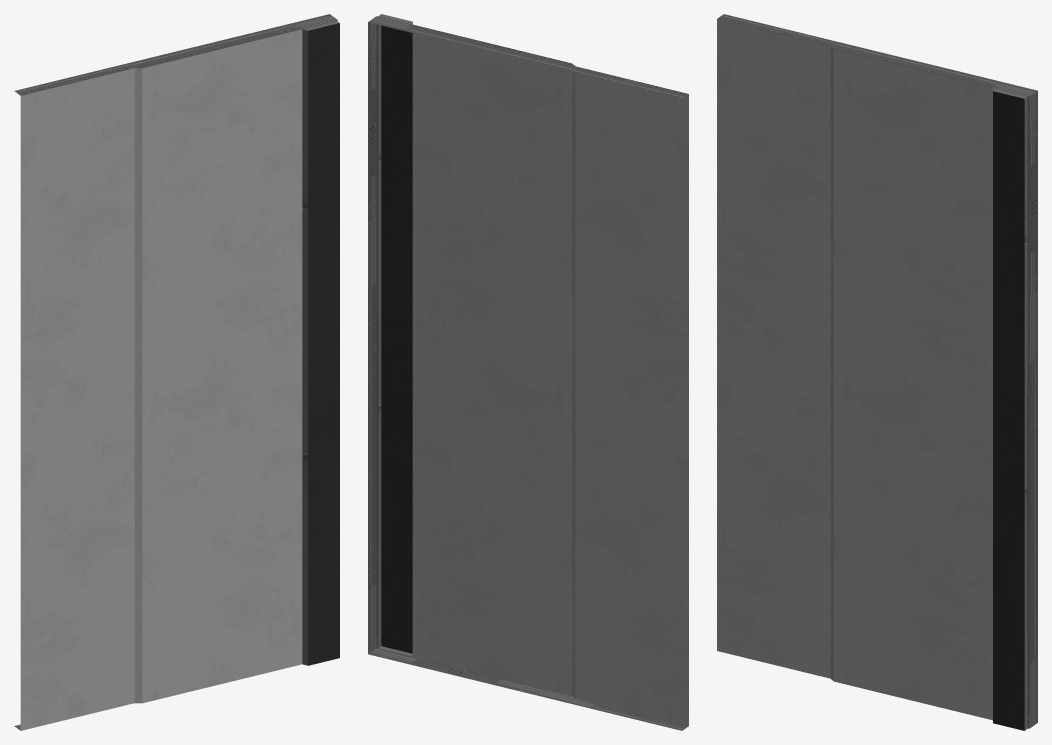
Rendered from door_simple.gltf.
The picture shows the model from 3 angles, left to right: view 1: azimuth 30°, elevation 25°; view 2: azimuth 150°, elevation 25°; view 3: azimuth 330°, elevation 25°; orthographic projection.
Parts seen in each view (by area): view 1: Door_Simple; view 2: Door_Simple; view 3: Door_Simple.
Part boxes in pixels (bbox=[...]): Door_Simple: bbox=[14, 14, 339, 730]; Door_Simple: bbox=[368, 14, 688, 730]; Door_Simple: bbox=[717, 14, 1037, 730].
Bounding box in the file's own units: 2.11 × 4.05 × 0.1363.
3 materials, 3 textured.
